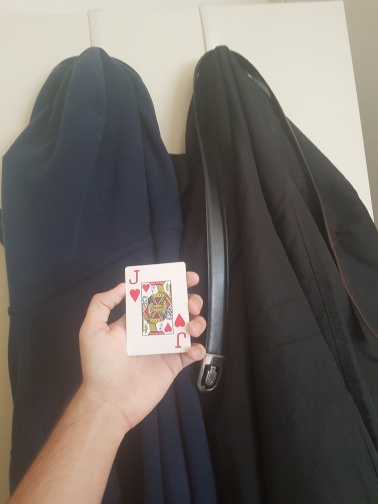jack: (125, 262, 190, 355)
